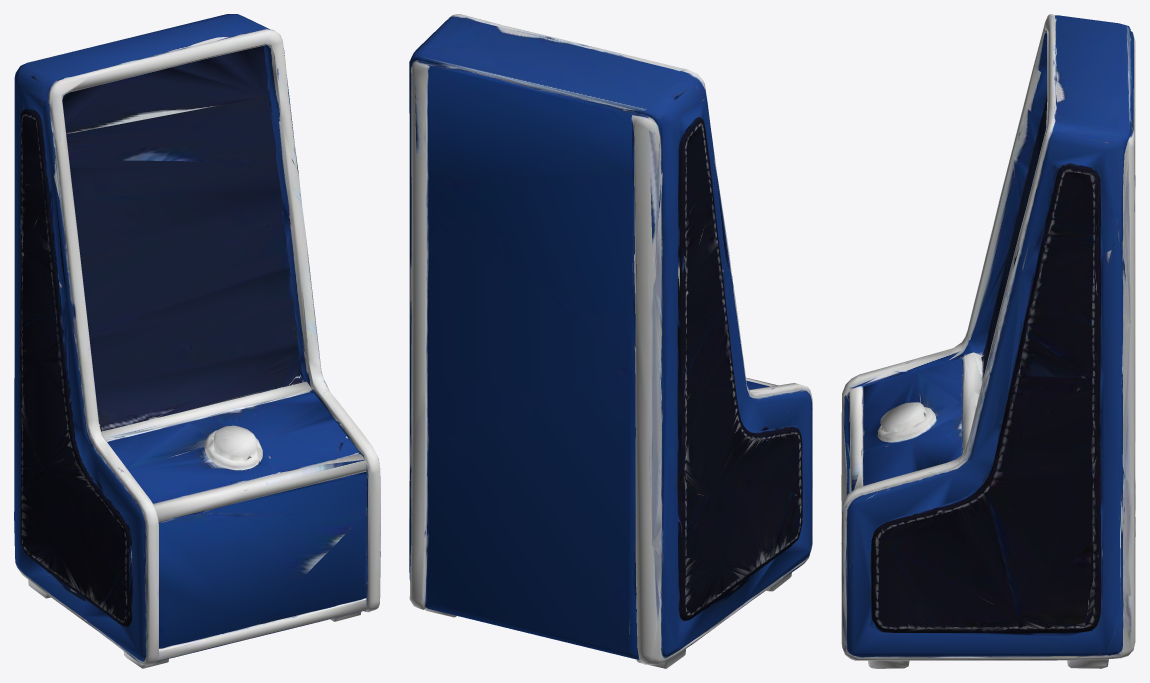
The model's file is plinko.glb.
3 renders of one model, left to right at view 1: azimuth 30°, elevation 25°; view 2: azimuth 150°, elevation 25°; view 3: azimuth 270°, elevation 25°, orthographic. The views are drawn at different scales.
Visible parts, largest first — view 1: Mesh_0; view 2: Mesh_0; view 3: Mesh_0.
Part boxes in pixels (x1,y1,x2,y2): Mesh_0: (14,14,380,668); Mesh_0: (409,14,812,668); Mesh_0: (841,14,1135,668).
Size of the model in its own units: 1.38 by 2.8 by 1.37.
1 material, 1 textured.
